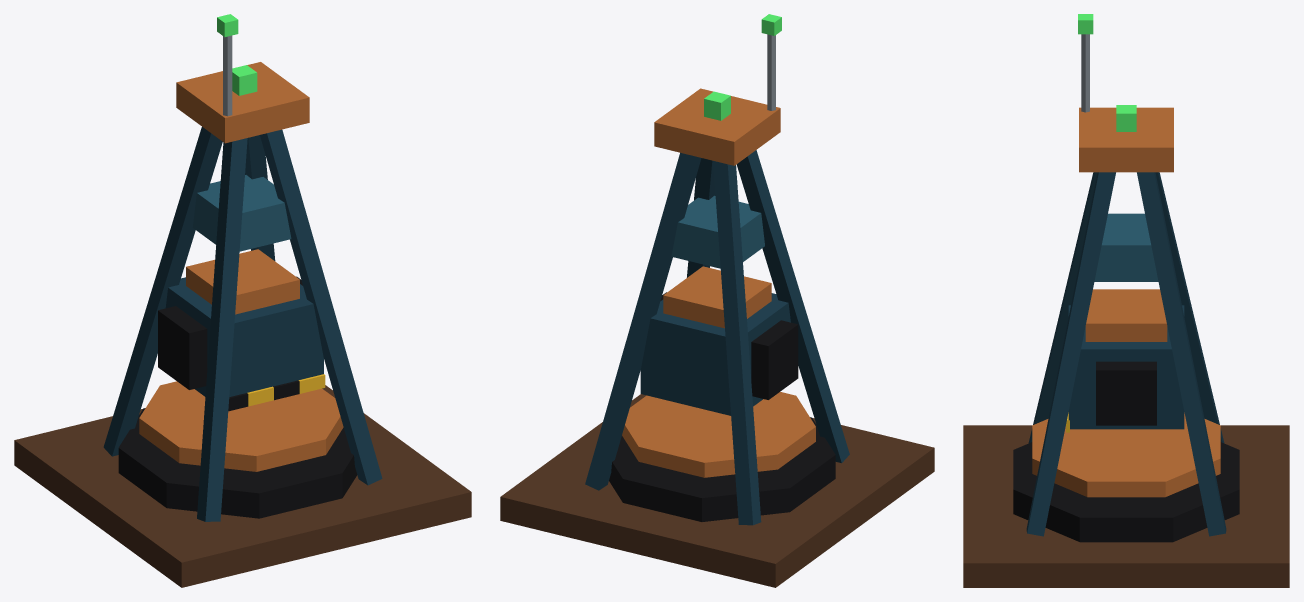
File: extractor_2.obj
3 renders of one model, left to right at view 1: azimuth 30°, elevation 25°; view 2: azimuth 150°, elevation 25°; view 3: azimuth 270°, elevation 25°, orthographic. The views are drawn at different scales.
Parts seen in each view (by area): view 1: Body, Lamp; view 2: Body, Lamp; view 3: Body, Lamp.
Part boxes in pixels (<box>): Body: <box>14,35,471,587</box>; Lamp: <box>217,14,257,95</box>; Body: <box>500,34,934,587</box>; Lamp: <box>704,14,781,120</box>; Body: <box>963,34,1289,587</box>; Lamp: <box>1078,14,1136,131</box>.
Bounding box in the file's own units: 0.96 × 1.57 × 0.96.
